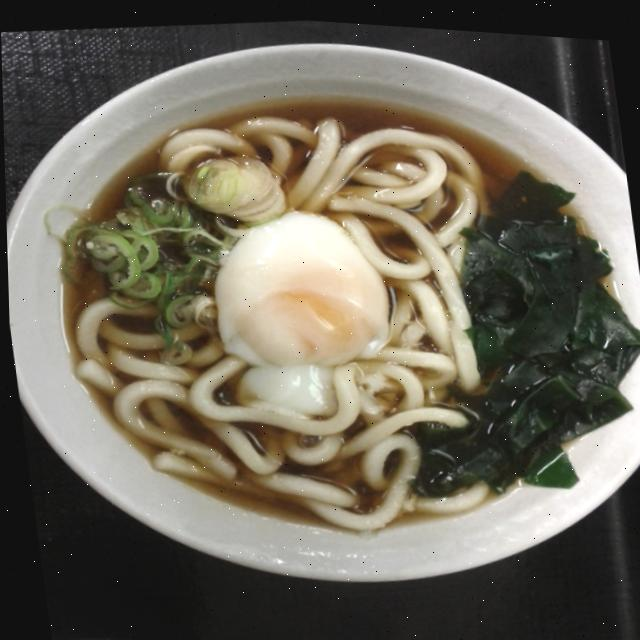面条主食: (0, 12, 640, 603)
